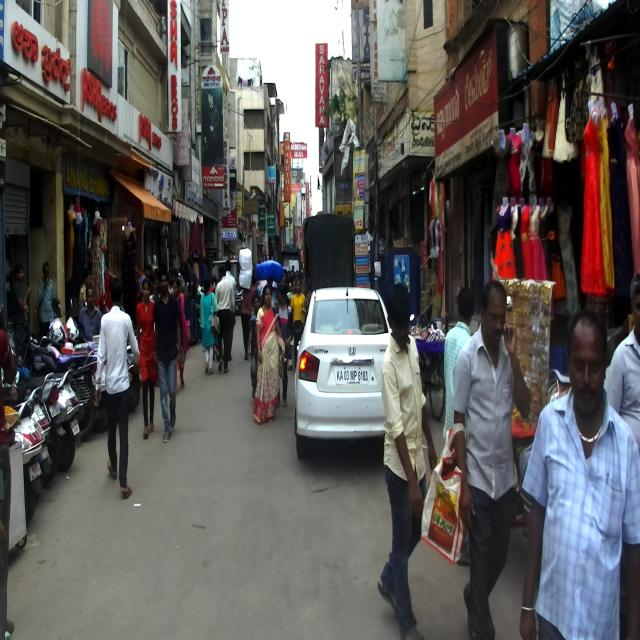car ahead at: (300, 288, 382, 446)
motorcycle ahead at: (16, 400, 52, 499)
person ahead at: (529, 311, 640, 640), (90, 281, 140, 499)
